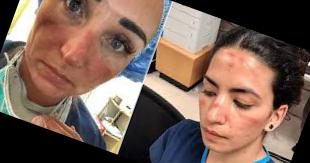without_mask: (18, 1, 156, 123), (181, 68, 279, 163)
